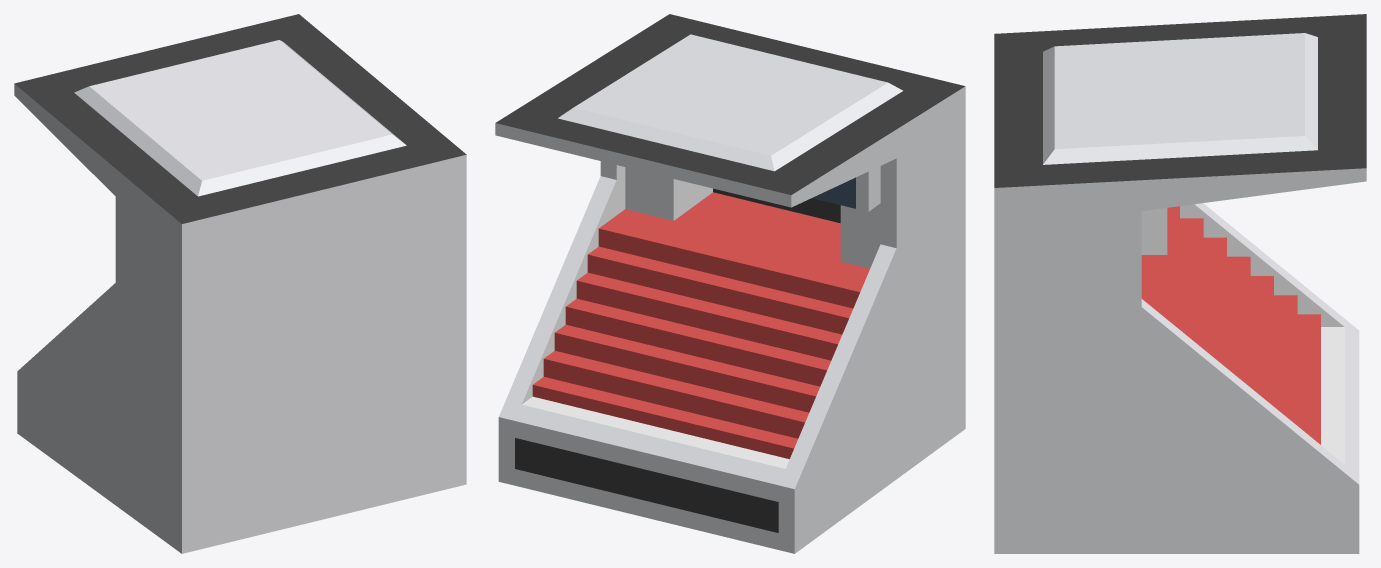
File: kit_grandStandCovered.obj
3 views of the same model, side by side, from view 1: azimuth 30°, elevation 25°; view 2: azimuth 150°, elevation 25°; view 3: azimuth 270°, elevation 25° (orthographic). The views are drawn at different scales.
Parts seen in each view (by area): view 1: grandStandCovered; view 2: grandStandCovered; view 3: grandStandCovered.
Part boxes in pixels (<box>): grandStandCovered: <box>14,14,466,553</box>; grandStandCovered: <box>495,14,965,553</box>; grandStandCovered: <box>994,14,1366,553</box>.
Bounding box in the file's own units: 1 × 1.19 × 1.02.
